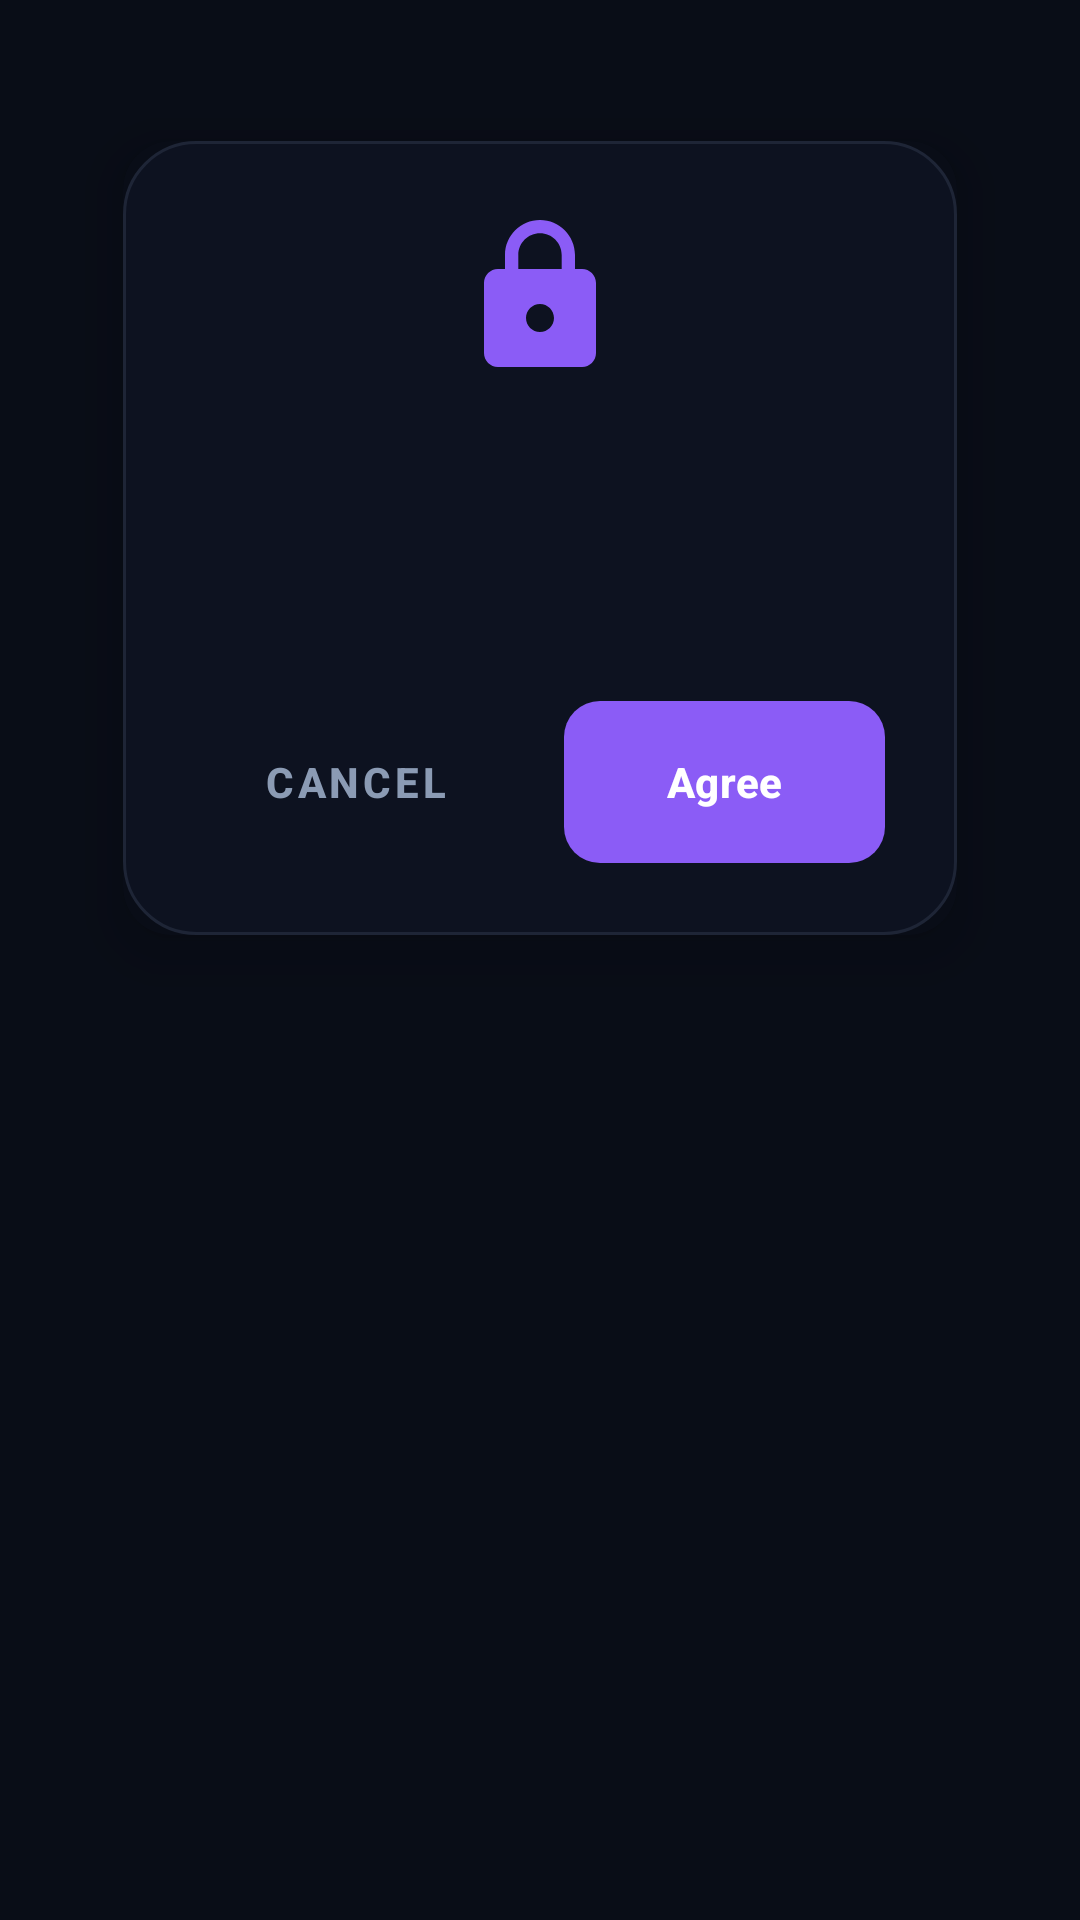

Point at icon controls on the screen. Image size 1080px×1920px, points as [x,y].
secure lock: [540,293]
